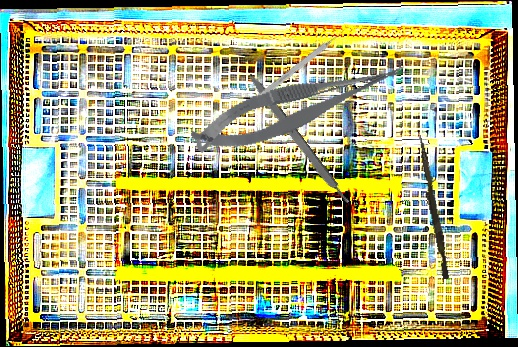Hook Surgical: (240, 27, 348, 113)
Micro Scissor: (183, 55, 415, 161)
Pusher: (412, 134, 454, 280)
Scalpel Handle: (244, 71, 351, 208)
